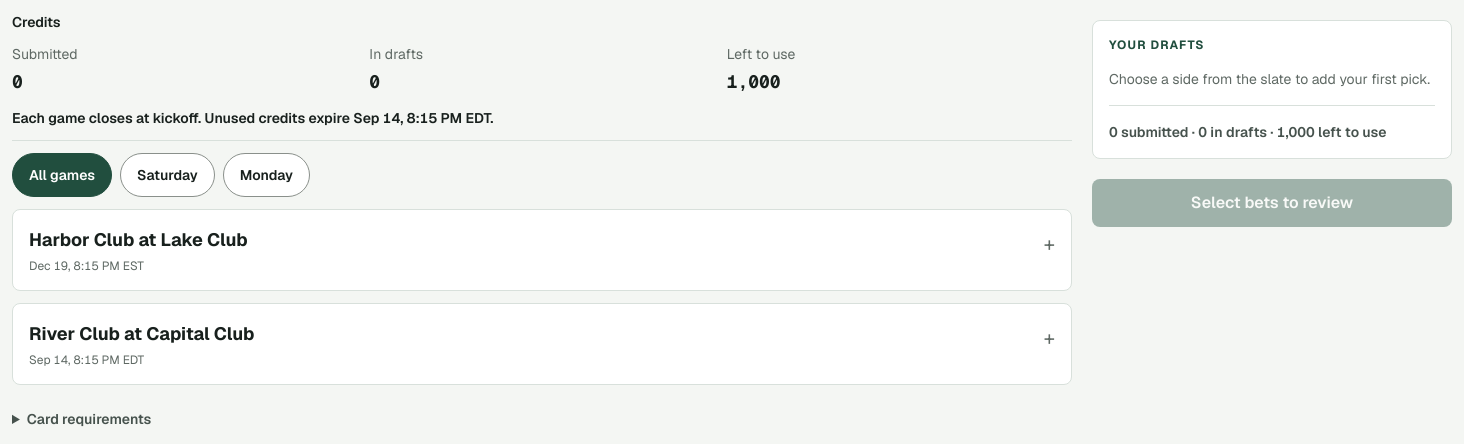
it: rolling member submission flow › offers Saturday only when that window is in the slate
Click the button "Saturday" at (167, 175), box top-left (120, 153), bottom-right (215, 197)
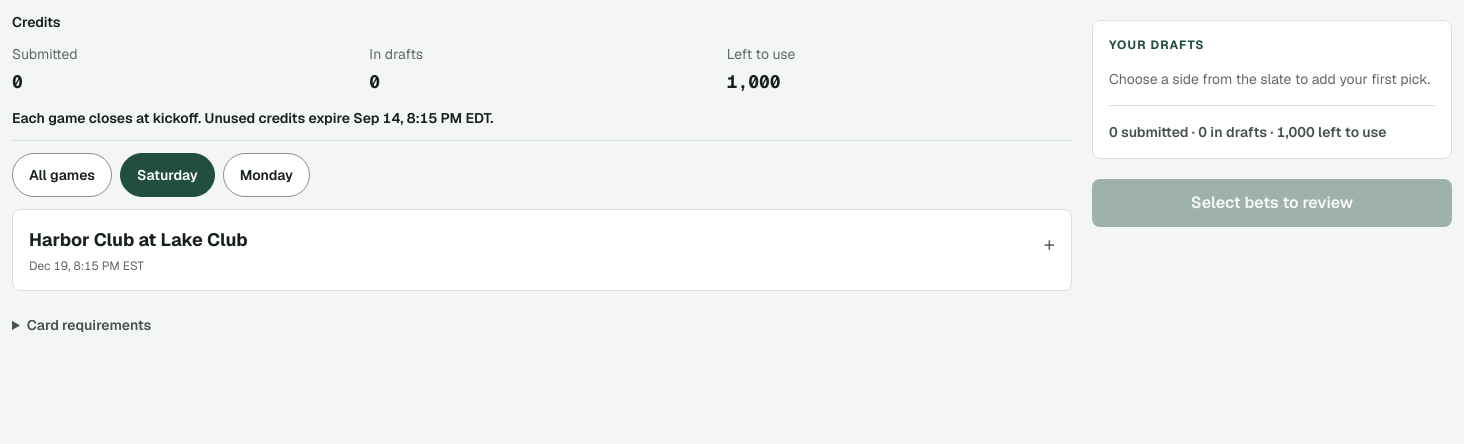
Check: the element "Harbor Club at Lake Club" is shown, box top-left (12, 209), bottom-right (1072, 291)
Check: the heading "River Club at Capital Club" is gone
